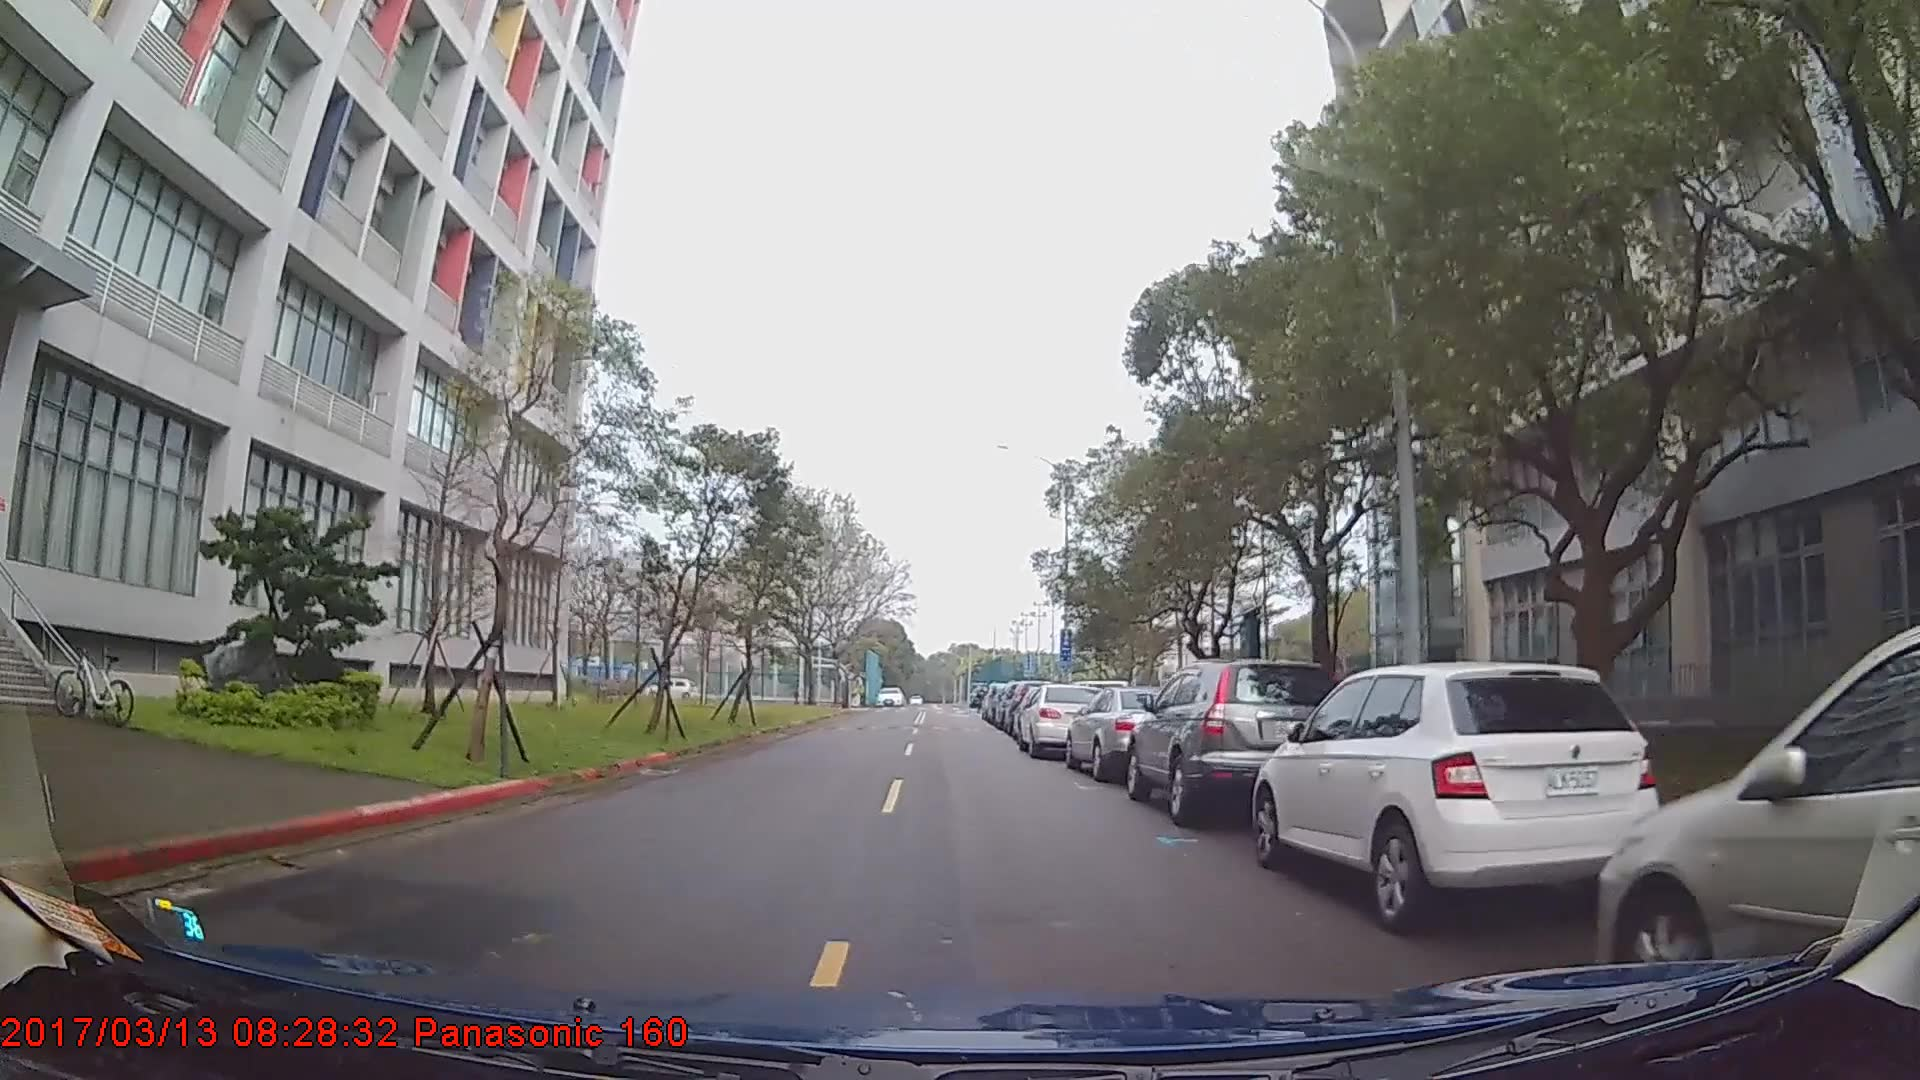vehicle: (1596, 634, 1919, 1004), (1251, 659, 1662, 938), (1124, 659, 1352, 828), (1065, 686, 1178, 783), (1014, 680, 1110, 758)
